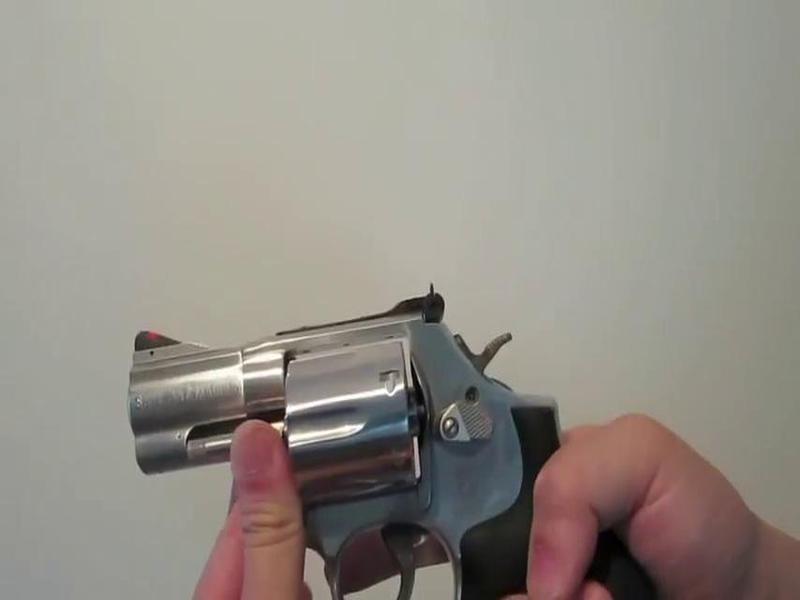Revolver: (107, 290, 586, 562)
